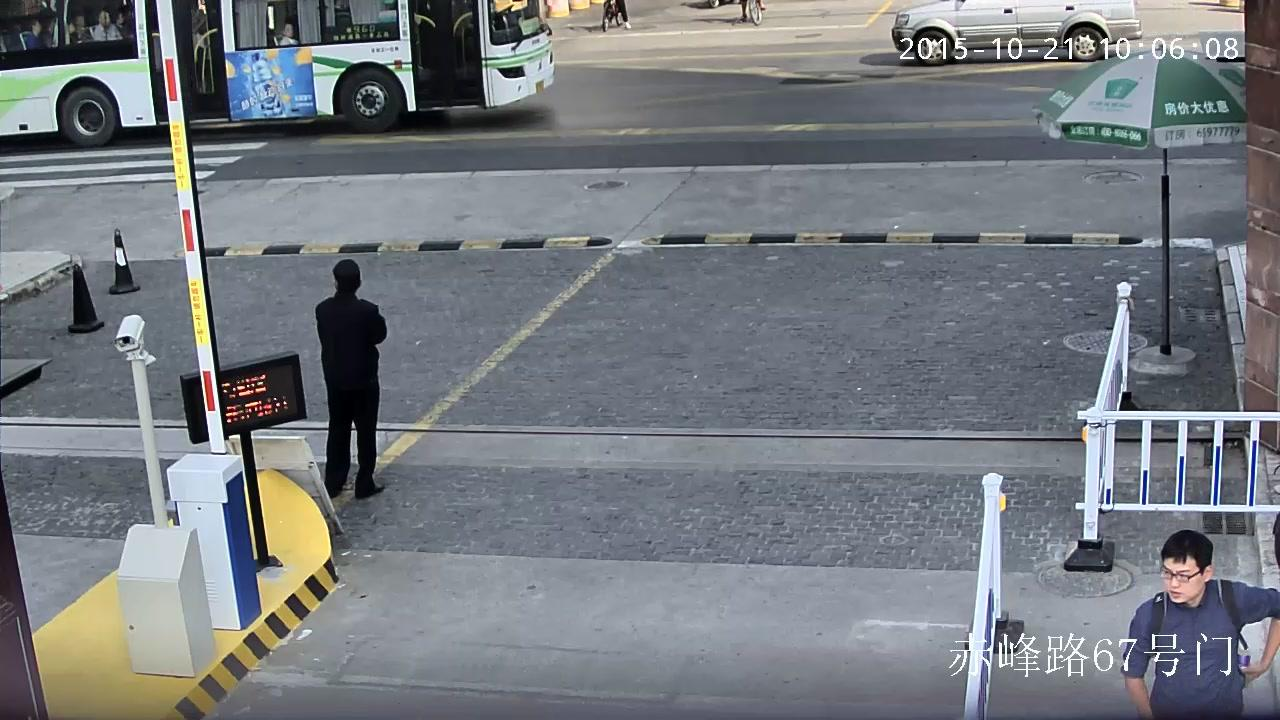face: (1163, 555, 1204, 603), (100, 12, 110, 24), (285, 23, 293, 37), (76, 16, 84, 26), (68, 23, 75, 32), (35, 22, 41, 32), (119, 12, 123, 22)
